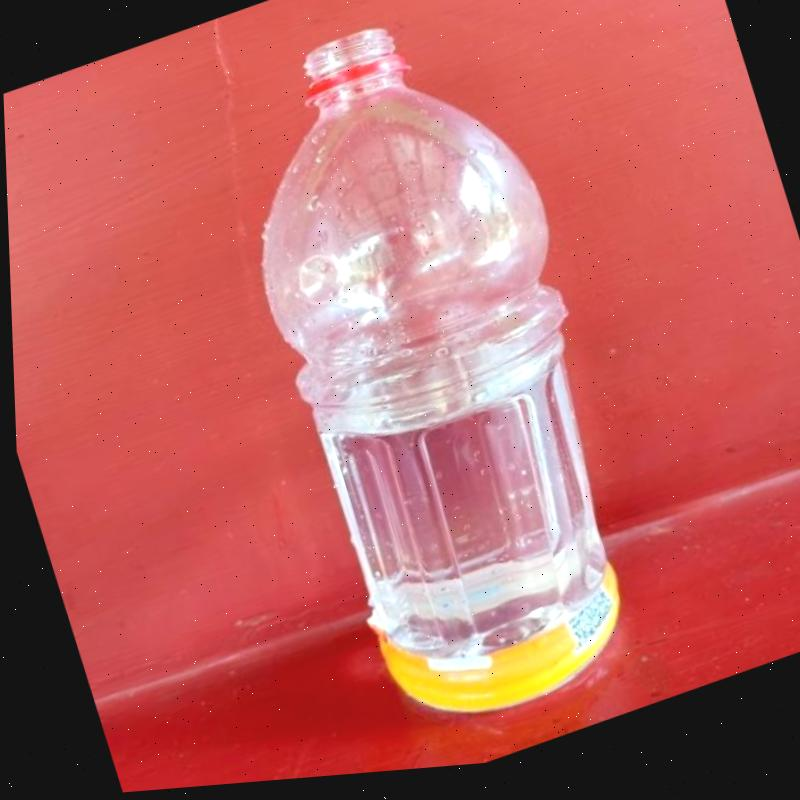botella: (190, 0, 683, 763)
